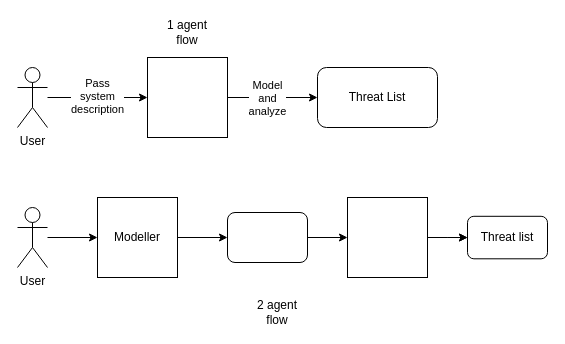
This 565x344 diagram has some shape labels left out. The box of each missing label's shape, as (x1, y1, x2, y2) in pixels:
Analyzer: (346, 196, 428, 278)
Model: (226, 212, 308, 262)
Modeller & Analyst: (146, 56, 228, 138)
